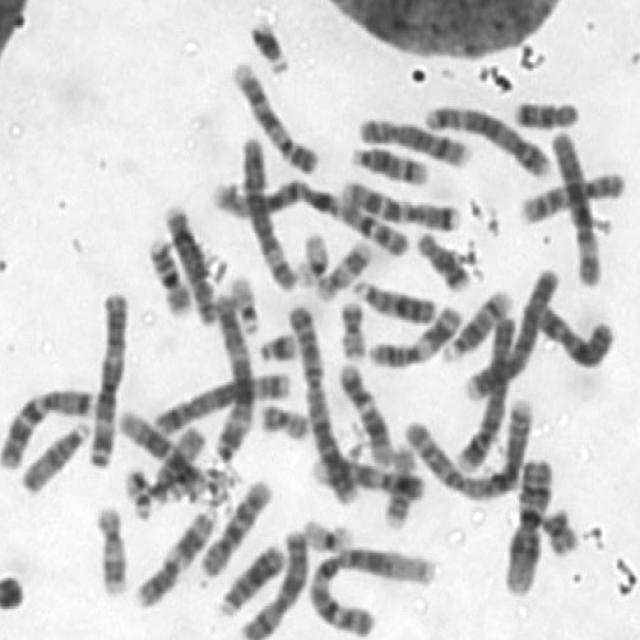A1: (207, 172, 413, 260), (303, 538, 440, 637)
A2: (283, 298, 361, 507), (395, 389, 537, 503)
A3: (84, 283, 131, 471), (210, 286, 258, 462)
B4: (459, 261, 561, 403), (452, 304, 519, 475)
B5: (418, 97, 553, 180), (149, 366, 293, 438)
C10: (195, 473, 275, 578), (515, 165, 627, 226)
C11: (130, 501, 219, 612), (362, 299, 464, 370)
C12: (113, 403, 208, 497), (334, 355, 397, 466)
C6: (236, 130, 299, 293), (543, 124, 604, 289)
C7: (0, 377, 97, 472), (334, 173, 463, 233)
C8: (157, 196, 220, 326), (352, 111, 473, 168)
C9: (227, 54, 321, 176), (308, 448, 426, 503)
D13: (216, 538, 290, 620), (348, 273, 437, 324)
D14: (437, 282, 515, 362), (344, 137, 432, 187)
D15: (15, 411, 93, 494), (148, 422, 208, 507)
E16: (142, 228, 195, 316), (379, 436, 418, 531)
E17: (311, 233, 376, 301), (90, 498, 132, 599)
E18: (409, 224, 472, 292), (508, 93, 582, 130)
F19: (288, 222, 330, 288), (297, 512, 356, 554)
F20: (255, 396, 314, 442), (334, 294, 368, 362)
G21: (246, 12, 293, 75), (254, 326, 298, 364)
G22: (225, 267, 262, 335), (118, 460, 156, 522)
X: (235, 524, 312, 638), (529, 296, 620, 372)
